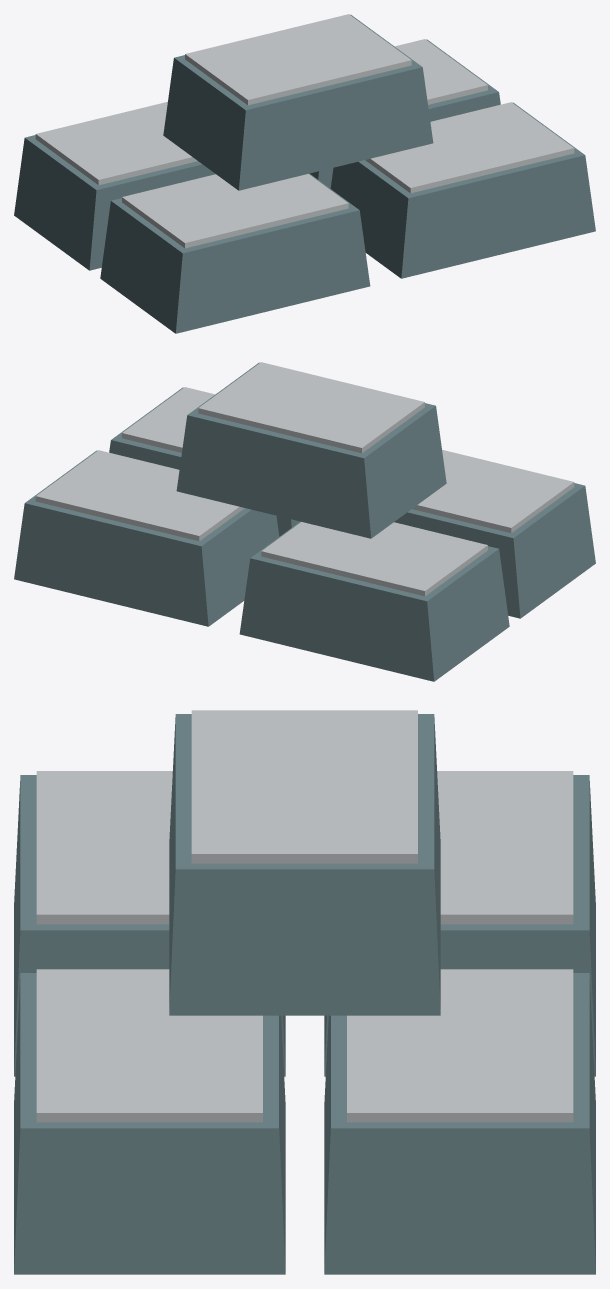
File: ice_block_stack.glb
3 views of the same model, one above another, from view 1: azimuth 30°, elevation 25°; view 2: azimuth 150°, elevation 25°; view 3: azimuth 270°, elevation 25° (orthographic). The views are drawn at different scales.
Parts seen in each view (by area): view 1: ice_block_stack; view 2: ice_block_stack; view 3: ice_block_stack.
Boxes of the visible parts, <box> form: ice_block_stack: <box>14,14,595,333</box>; ice_block_stack: <box>14,362,595,681</box>; ice_block_stack: <box>14,710,595,1274</box>.
Size of the model in its own units: 2.88 by 1.1 by 1.92.
